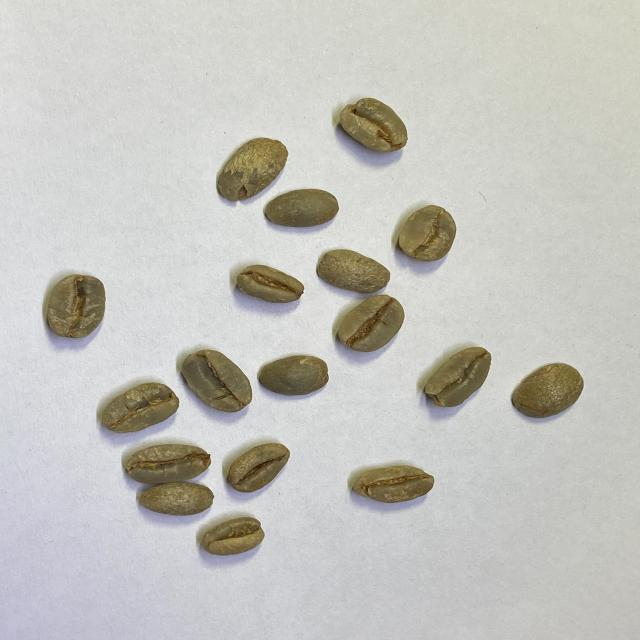bad: (216, 136, 291, 200), (423, 346, 492, 410), (99, 380, 179, 435), (338, 96, 409, 156), (126, 442, 213, 484), (350, 463, 436, 505), (397, 204, 458, 262), (236, 264, 305, 306), (197, 517, 267, 556)
good: (180, 348, 253, 414), (510, 362, 585, 419), (46, 272, 107, 339), (335, 294, 405, 352), (227, 441, 292, 493), (316, 248, 391, 293), (256, 352, 330, 397), (262, 188, 339, 228), (136, 483, 215, 515)
